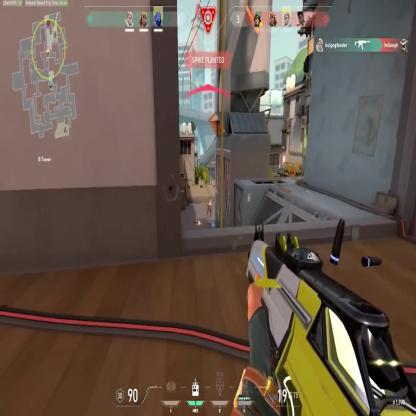enemy: (206, 200, 212, 216)
enemy_head: (210, 199, 212, 203)
